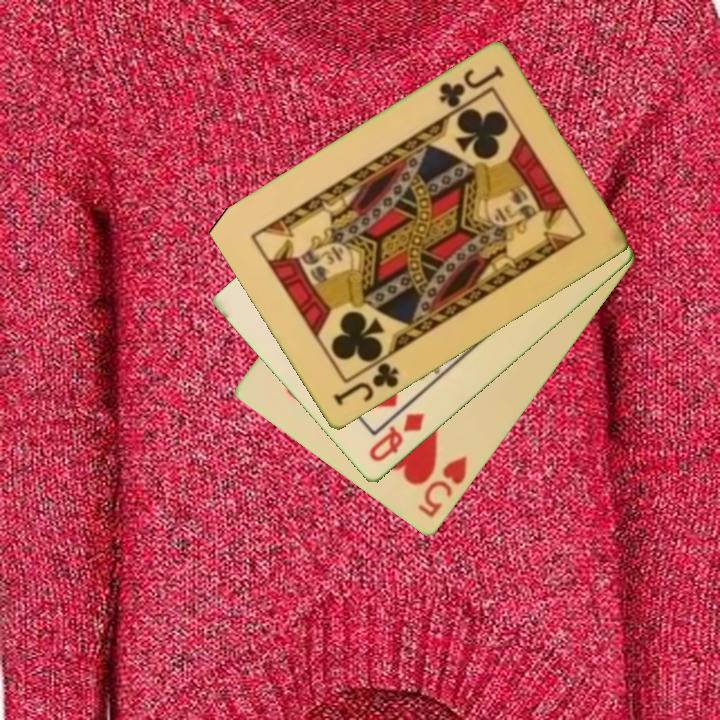5h: (414, 452, 471, 521)
Jc: (329, 359, 402, 410), (435, 62, 507, 112)
Qd: (365, 409, 428, 466)
